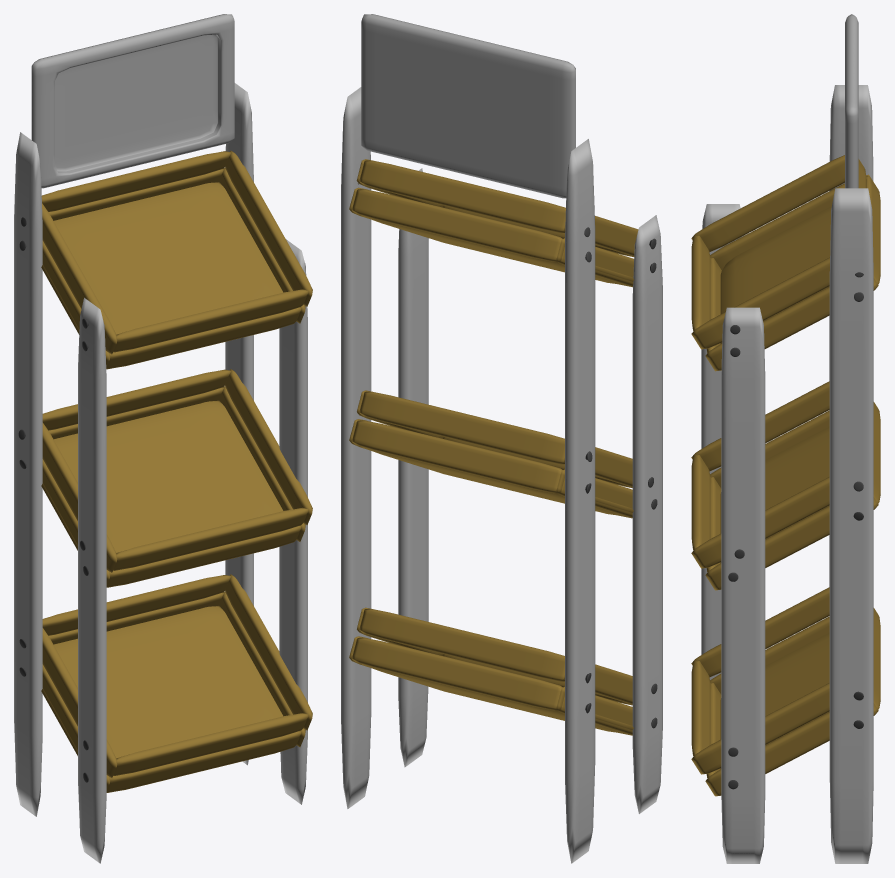
The model's file is Sebzelik.fbx.
The picture shows the model from 3 angles, left to right: view 1: azimuth 30°, elevation 25°; view 2: azimuth 150°, elevation 25°; view 3: azimuth 270°, elevation 25°; orthographic projection. The views are drawn at different scales.
Visible parts, largest first — view 1: pCube16, pCube14, pCube15, pCube17, pCube2, pCube1, pCube12, pCube13; view 2: pCube17, pCube2, pCube13, pCube1, pCube16, pCube15, pCube14, pCube12; view 3: pCube13, pCube12, pCube16, pCube14, pCube15, pCube1, pCube2, pCube17.
Part boxes in pixels (<box>): pCube16: <box>41,150,312,369</box>; pCube14: <box>41,574,312,792</box>; pCube15: <box>41,369,312,587</box>; pCube17: <box>31,14,234,188</box>; pCube2: <box>14,132,42,816</box>; pCube1: <box>78,297,106,863</box>; pCube12: <box>279,239,307,804</box>; pCube13: <box>225,83,253,765</box>; pCube17: <box>361,14,575,198</box>; pCube2: <box>565,139,595,863</box>; pCube13: <box>341,87,371,808</box>; pCube1: <box>632,215,662,813</box>; pCube16: <box>349,159,638,287</box>; pCube15: <box>349,390,633,518</box>; pCube14: <box>349,607,633,735</box>; pCube12: <box>398,168,428,767</box>; pCube13: <box>829,188,873,863</box>; pCube12: <box>721,307,765,863</box>; pCube16: <box>691,155,880,371</box>; pCube14: <box>691,587,880,796</box>; pCube15: <box>691,381,880,590</box>; pCube1: <box>701,204,743,679</box>; pCube2: <box>829,85,873,586</box>; pCube17: <box>845,14,858,188</box>.
Bounding box in the file's own units: 1.9 × 5.93 × 1.36.
